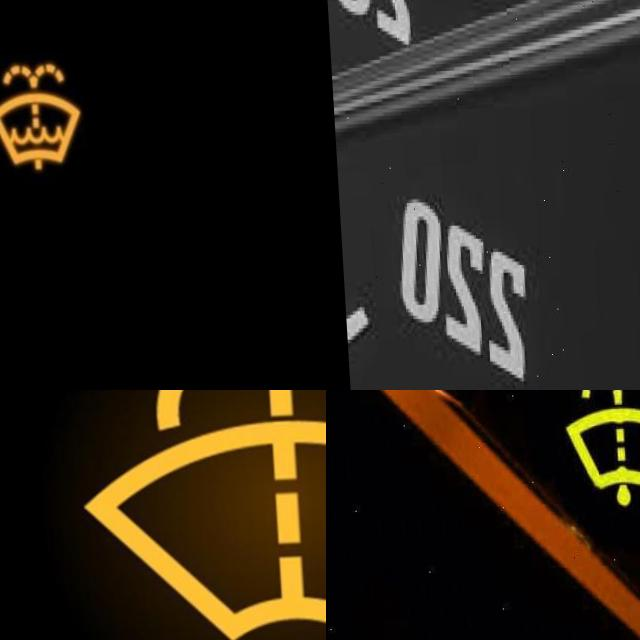Washer Fluid: (558, 390, 640, 508)
